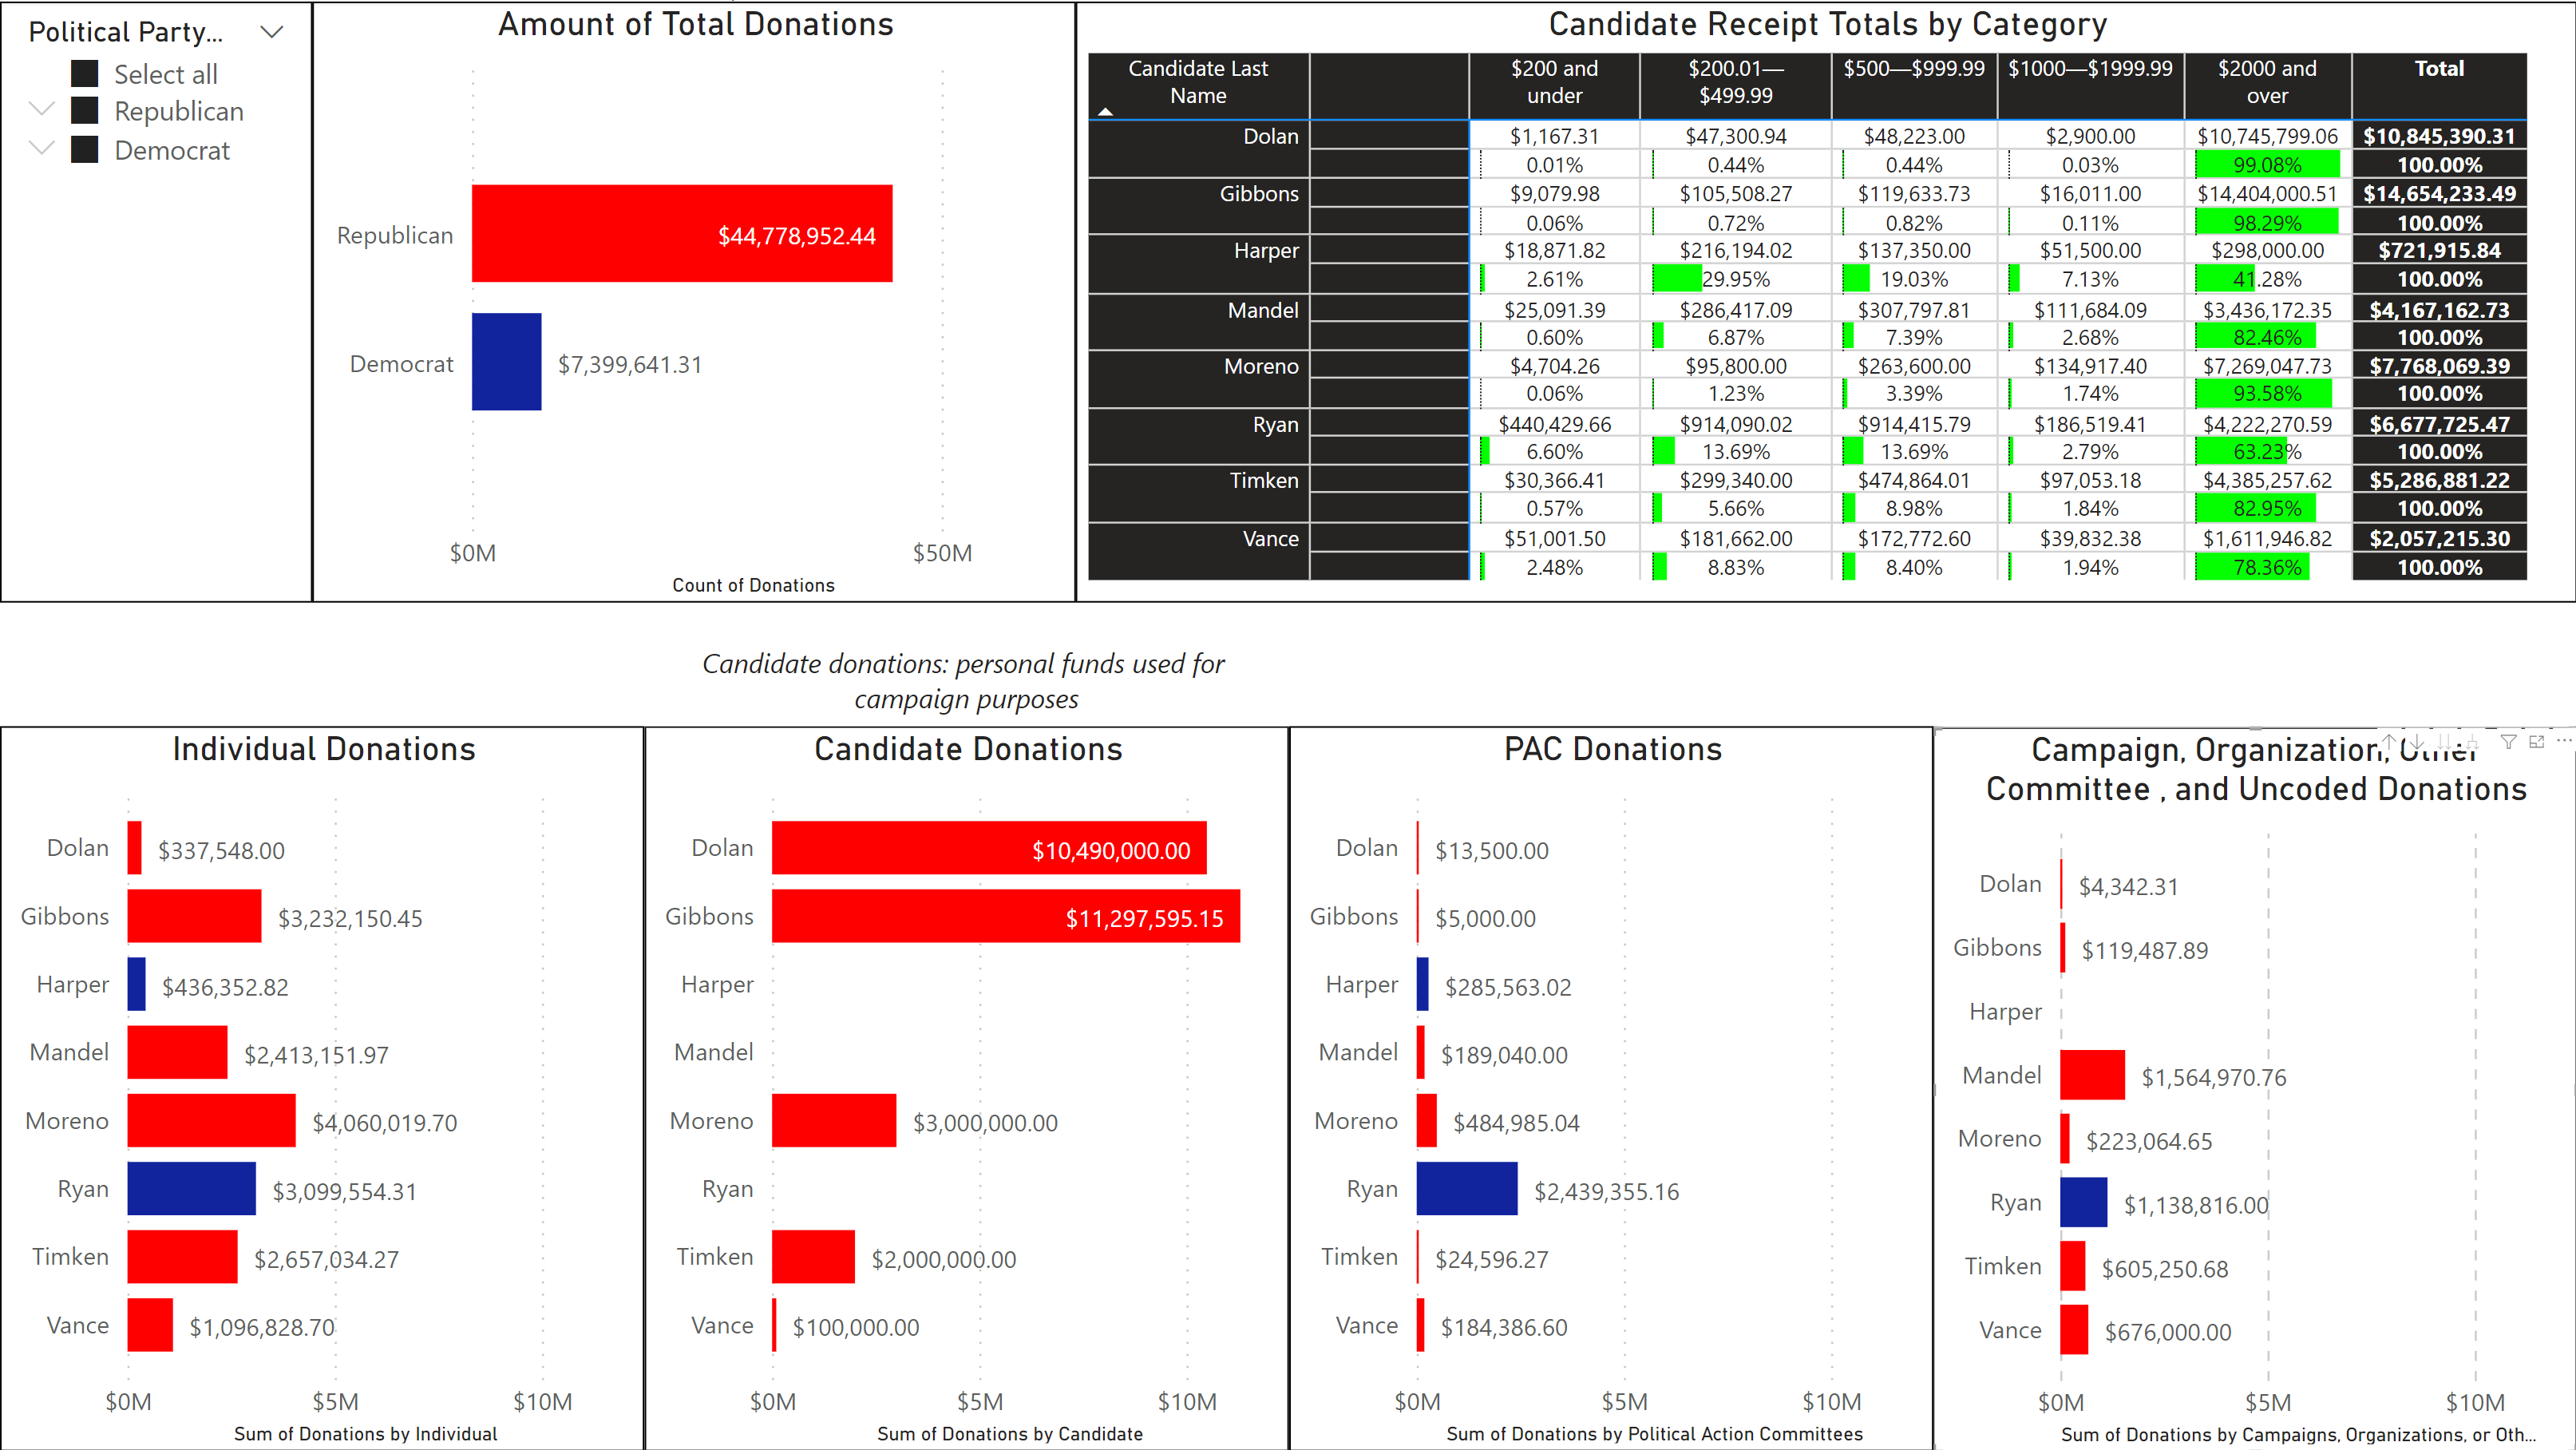

The page's visual inventory and layout, read from the dashboard file:
{"tool":"powerbi","page":{"name":"Receipt Amounts","canvas":[1280,720],"ordinal":0},"visuals":[{"type":"pivotTable","title":"Candidate Receipt Totals by Category","fields":{"Columns":["Receipt Category Sort Table.Receipt Category"],"Values":["FEC_Data_Agg.Contribution Receipt Amount","Divide(Sum(FEC_Data_Agg.Contribution Receipt Amount), ScopedEval(Sum(FEC_Data_Agg.Contribution Receipt Amount), [Role.Ro"],"Rows":["Candidate Table.Candidate Last Name"]},"box":[534.2,0,745.8,298.2],"z":0},{"type":"barChart","title":"Amount of Total Donations","fields":{"Y":["FEC_Data_Agg.Contribution Receipt Amount"],"Category":["Candidate Table.Political Party Hierarchy.Political Party","Candidate Table.Political Party Hierarchy.Candidate Last Name"]},"box":[155.1,0,379.1,298.2],"z":1000},{"type":"barChart","title":"Individual Donations","fields":{"Y":["FEC_Data_Agg.Contribution Receipt Amount"],"Category":["Candidate Table.Political Party Hierarchy.Political Party","Candidate Table.Political Party Hierarchy.Candidate Last Name"]},"box":[0,359.9,320,359.9],"z":2000},{"type":"slicer","fields":{"Values":["Candidate Table.Political Party","Candidate Table.Candidate Last Name"]},"box":[0,0,155.1,298.2],"z":3000},{"type":"barChart","title":"Campaign, Organization, Other Committee , and Uncoded Donations","fields":{"Y":["FEC_Data_Agg.Contribution Receipt Amount"],"Category":["Candidate Table.Political Party Hierarchy.Political Party","Candidate Table.Political Party Hierarchy.Candidate Last Name"]},"box":[960,360.5,320,360],"z":4000},{"type":"barChart","title":"PAC Donations","fields":{"Y":["FEC_Data_Agg.Contribution Receipt Amount"],"Category":["Candidate Table.Political Party Hierarchy.Political Party","Candidate Table.Political Party Hierarchy.Candidate Last Name"]},"box":[640,359.9,320,360],"z":5000},{"type":"barChart","title":"Candidate Donations","fields":{"Y":["FEC_Data_Agg.Contribution Receipt Amount"],"Category":["Candidate Table.Political Party Hierarchy.Political Party","Candidate Table.Political Party Hierarchy.Candidate Last Name"]},"box":[320,359.9,320,360],"z":6000},{"type":"textbox","box":[320,314.3,320,45.6],"z":7000}]}

Visuals, with their boxes in screenshot pixels (x1, y1, x2, y2), scaled from the page's 1280x720 canvas onto the 2576x1450 screenshot:
"Candidate Receipt Totals by Category" pivotTable: 1075/0/2575/600
"Amount of Total Donations" barChart: 312/0/1075/600
"Individual Donations" barChart: 0/725/644/1449
slicer - Candidate Table.Political Party x Candidate Table.Candidate Last Name: 0/0/312/600
"Campaign, Organization, Other Committee , and Uncoded Donations" barChart: 1932/726/2575/1449
"PAC Donations" barChart: 1288/725/1932/1449
"Candidate Donations" barChart: 644/725/1288/1449
textbox: 644/633/1288/725
